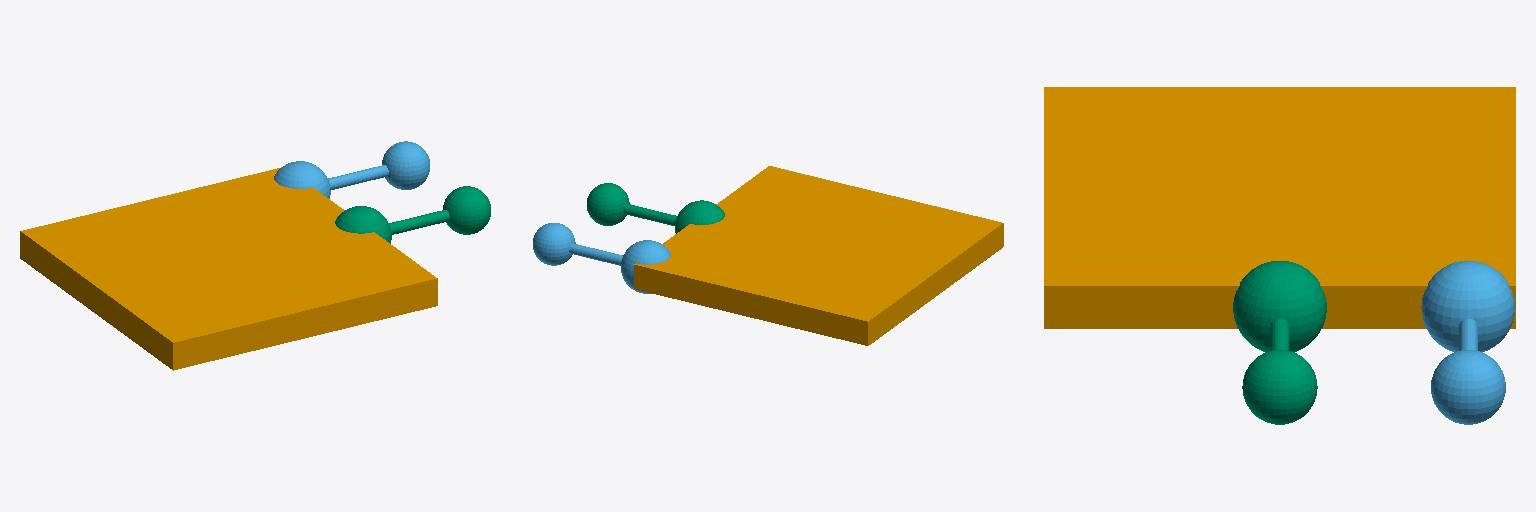
robot.urdf — test_robot:
<?xml version="1.0"?>
<robot name="test_robot">

  <link name="palm">
    <visual>
      <origin xyz="2.5 0 0" rpy="0 0 0" />
      <geometry>
        <!--<mesh filename="package://hand_description/meshes/batman.STL" scale="1.0 1.0 1.0"/>-->
        <box size="5 5 0.5" /> 
     </geometry>
    </visual>
  </link>

  <link name="index">
    <visual>
      <origin xyz="0 0 0" rpy="0 0 0" />
      <geometry>
        <sphere radius="0.5" />
      </geometry>
    </visual>
    <visual>
      <origin xyz="1 0 0" rpy="0 1.5707 0" />
      <geometry>
        <cylinder radius="0.1" length="2.0"/>
      </geometry>
    </visual>
    <visual>
      <origin xyz="2 0 0" rpy="0 0 0" />
      <geometry>
        <sphere radius="0.4" />
      </geometry>
    </visual>
  </link>

  <link name="middle">
    <visual>
      <origin xyz="0 0 0" rpy="0 0 0" />
      <geometry>
        <sphere radius="0.5" />
      </geometry>
    </visual>
    <visual>
      <origin xyz="1 0 0" rpy="0 1.5707 0" />
      <geometry>
        <cylinder radius="0.1" length="2.0"/>
      </geometry>
    </visual>
    <visual>
      <origin xyz="2 0 0" rpy="0 0 0" />
      <geometry>
        <sphere radius="0.4" />
      </geometry>
    </visual>
  </link>

  <joint name="indexMCP" type="continuous">
    <parent link="palm"/>
    <child link="index"/>
    <origin xyz="5 2 0" rpy="0 0 0" />
    <axis xyz="0.0 1.0 0.0" />
  </joint>

  <joint name="middleMCP" type="continuous">
    <parent link="palm"/>
    <child link="middle"/>
    <origin xyz="5 0 0" rpy="0 0 0" />
    <axis xyz="0.0 1.0 0.0" />
  </joint>
</robot>

--- Render facts (derived) ---
The picture shows the robot from 3 angles, left to right: view 1: azimuth 30°, elevation 25°; view 2: azimuth 150°, elevation 25°; view 3: azimuth 270°, elevation 25°; orthographic projection.
Robot: test_robot — 3 links, 2 joints (2 continuous); root link palm; default pose: every joint at zero.
Links seen in each view (by area): view 1: palm, index, middle; view 2: palm, index, middle; view 3: palm, index, middle.
Boxes of the visible links, x1,y1,x2,y2 form: palm: [20, 167, 437, 370]; index: [274, 141, 429, 198]; middle: [335, 186, 490, 243]; palm: [634, 166, 1003, 345]; index: [533, 223, 670, 293]; middle: [587, 183, 724, 233]; palm: [1044, 87, 1515, 328]; index: [1421, 261, 1515, 424]; middle: [1233, 261, 1326, 424].
Bounding box of the posed robot: 7.4 × 5 × 1 m (x, y, z).
Geometry: primitives only (box / cylinder / sphere), no mesh files.